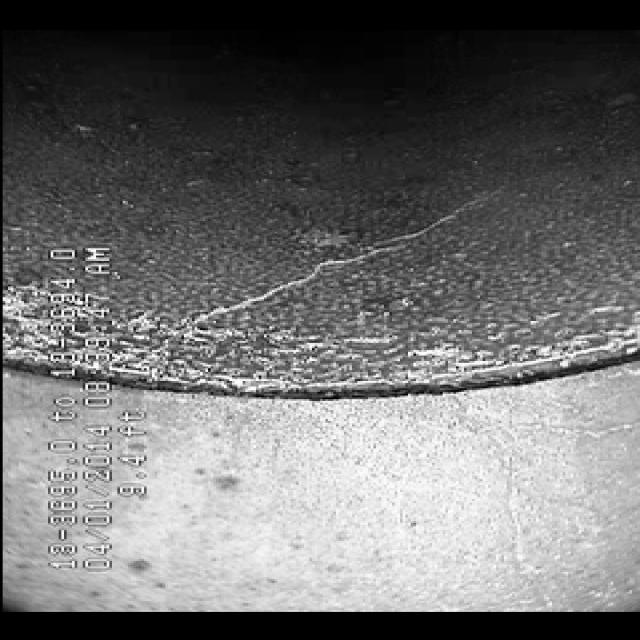Crack: (187, 202, 476, 328)
